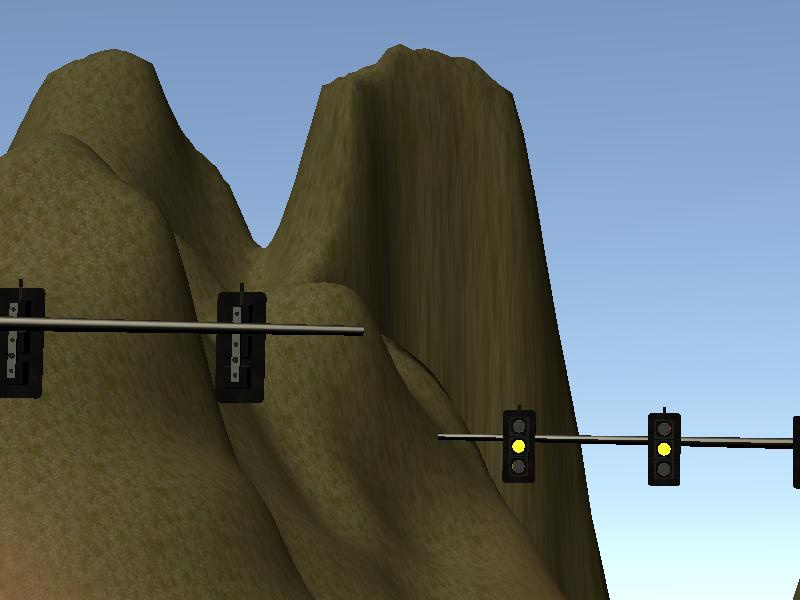yellow_light: (649, 416, 682, 485), (504, 412, 534, 483)
